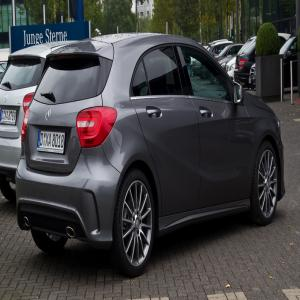Vehicle-registration-plate: (37, 129, 67, 157), (1, 109, 18, 127)
